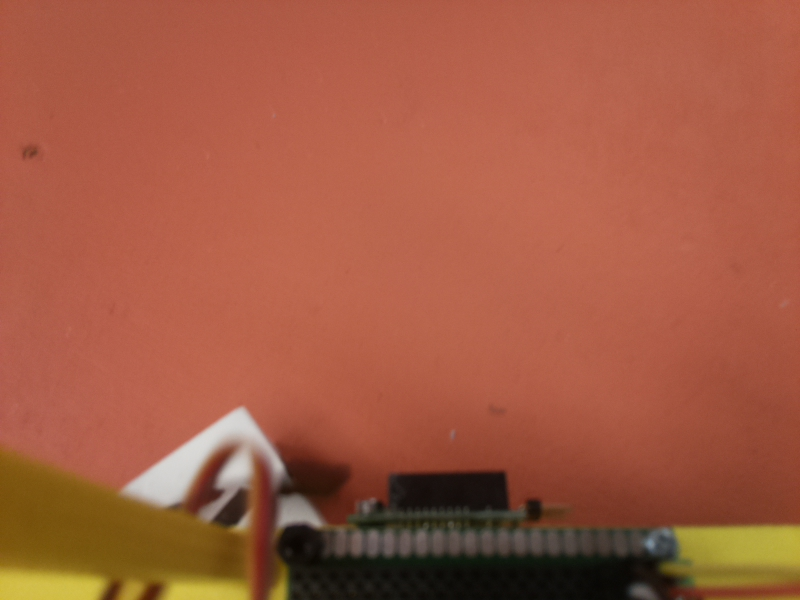blockA: (114, 406, 325, 577)
